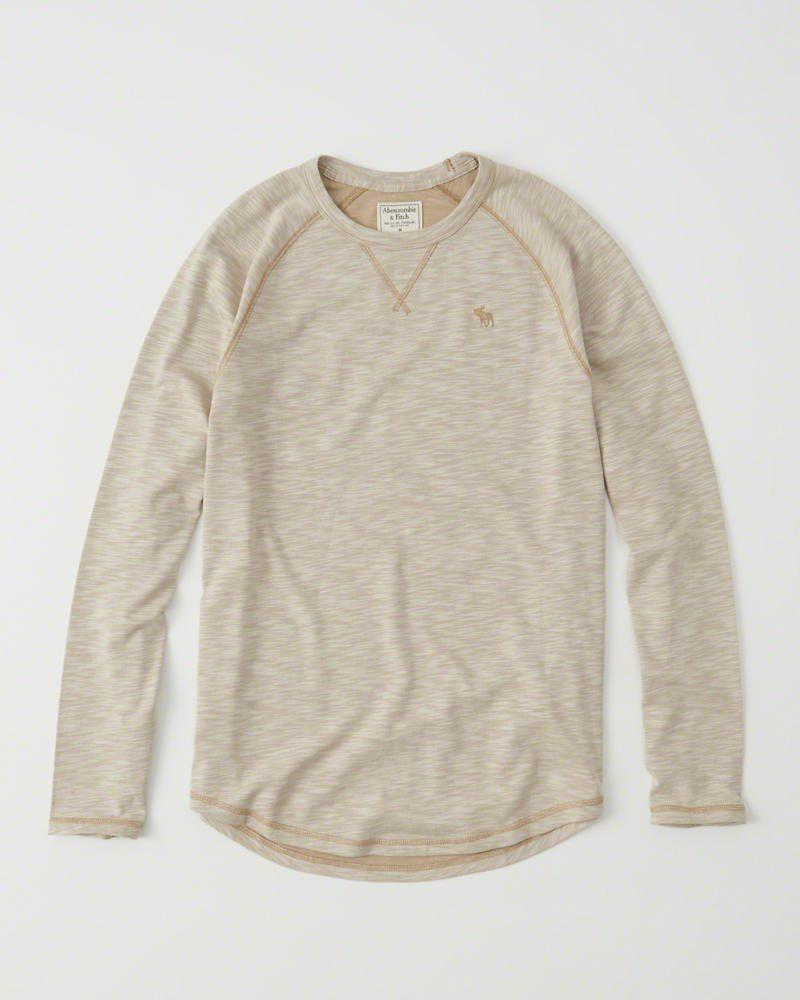teeshirt: (24, 153, 773, 948)
